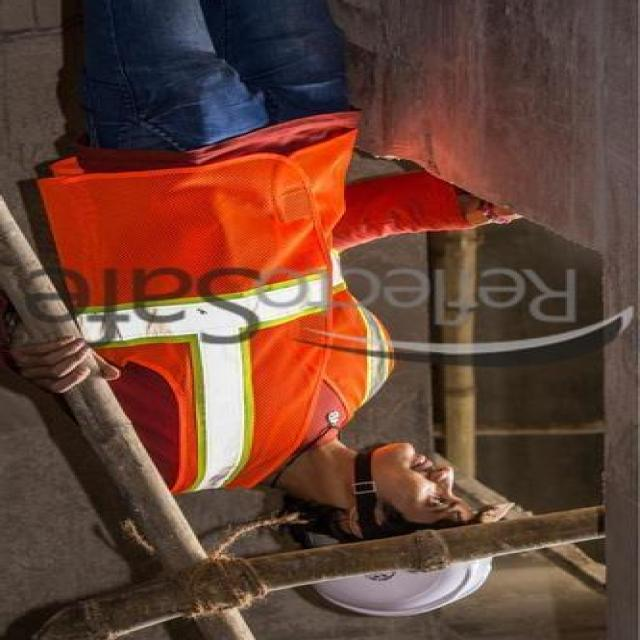jacket: (40, 140, 398, 498)
